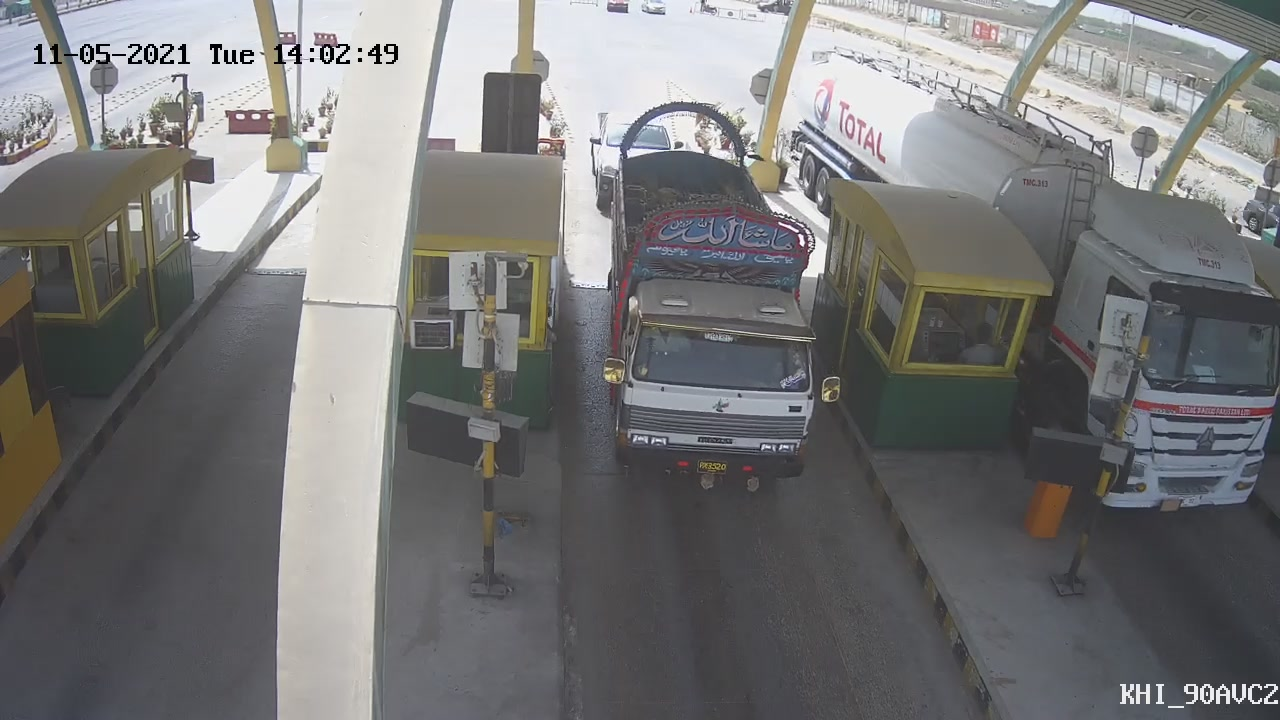F5: (599, 98, 815, 491)
